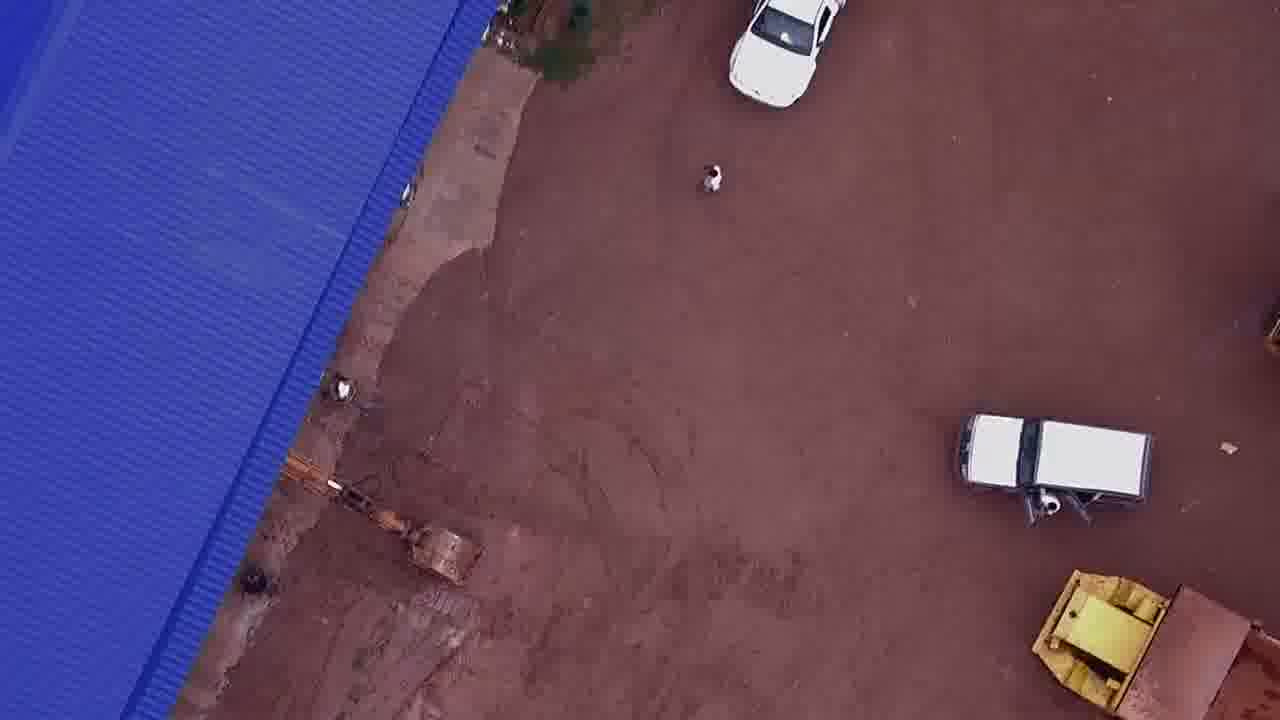LMV: (955, 402, 1159, 530), (725, 1, 848, 113)
Person: (697, 155, 726, 200), (327, 373, 359, 408), (1036, 491, 1059, 521)
